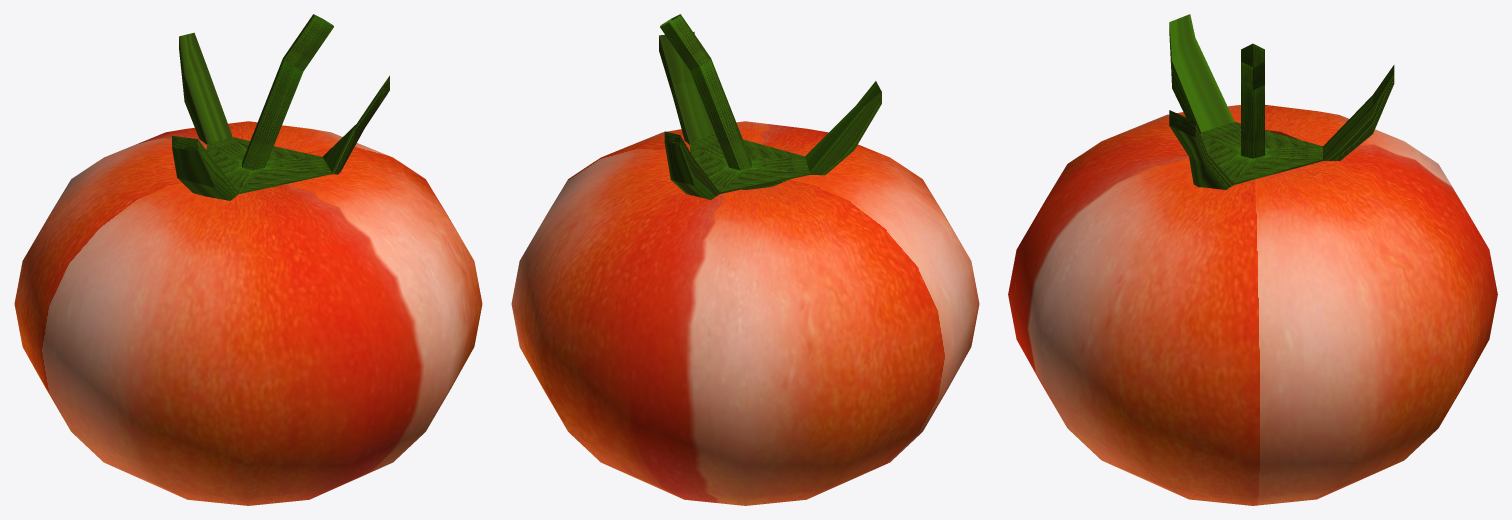
The model's file is tomato.fbx.
The picture shows the model from 3 angles, left to right: view 1: azimuth 30°, elevation 25°; view 2: azimuth 150°, elevation 25°; view 3: azimuth 270°, elevation 25°; orthographic projection. The views are drawn at different scales.
Parts seen in each view (by area): view 1: tomato, tomatostem; view 2: tomato, tomatostem; view 3: tomato, tomatostem.
Boxes of the visible parts, left/top/right/bottom form: tomato: left=14, top=121, right=482, bottom=505; tomatostem: left=172, top=14, right=389, bottom=200; tomato: left=511, top=121, right=979, bottom=505; tomatostem: left=659, top=14, right=881, bottom=199; tomato: left=1008, top=105, right=1497, bottom=505; tomatostem: left=1169, top=14, right=1394, bottom=189.
Size of the model in its own units: 0.23 by 0.232 by 0.2276.
